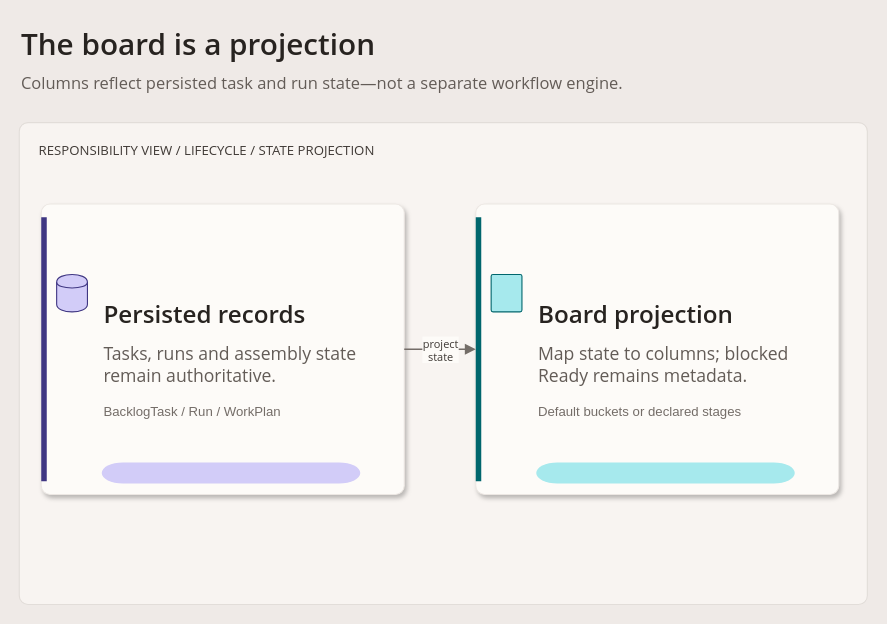
The diagram is 887 pixels wide and 624 high, and some of its shapes have lost their labels. The shapes that lost their labels are listed below. From the top down, each one's centre as x and y in pixels, then its label:
At point (230, 472): "STATE".
At point (665, 472): "READ MODEL".
